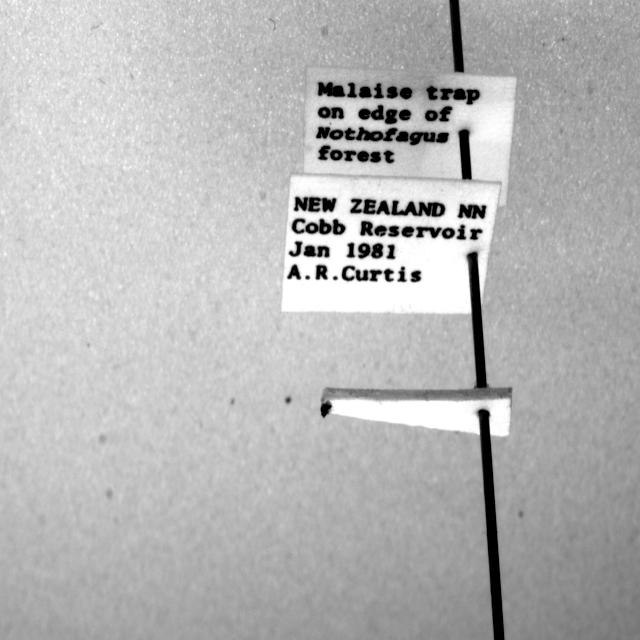typed_label: (281, 174, 501, 313), (304, 66, 516, 206)
